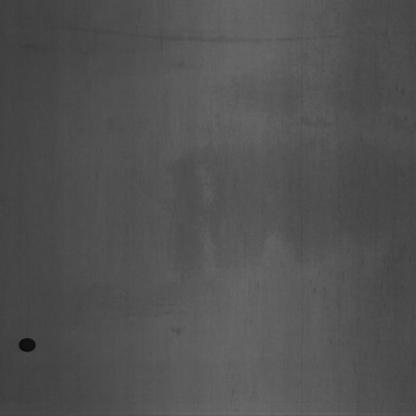punching_hole: (15, 331, 39, 359)
